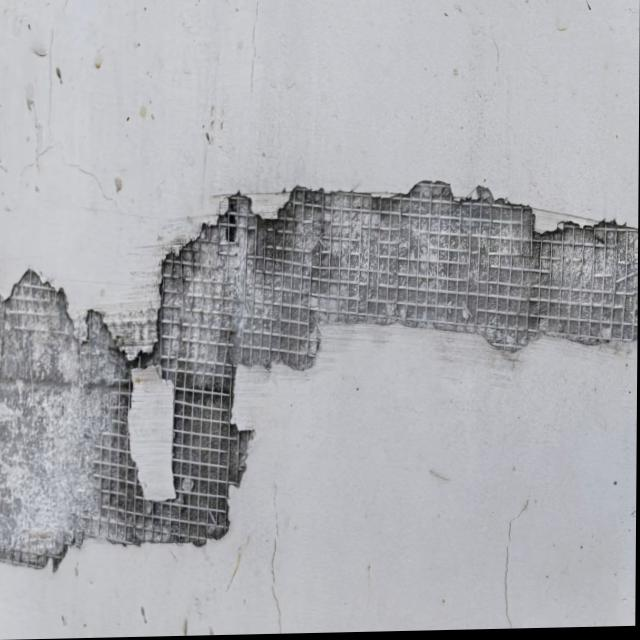crack: (504, 494, 530, 627), (270, 482, 285, 633)
spalling: (0, 162, 636, 591)
